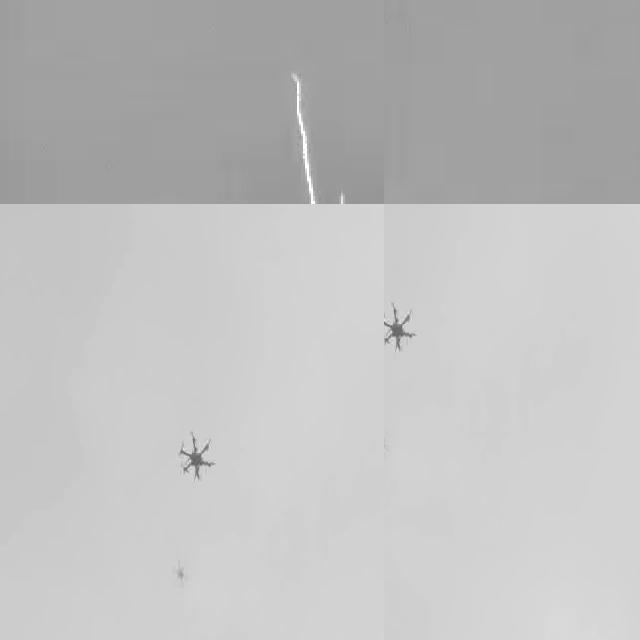drone: (178, 423, 216, 486), (384, 294, 417, 357)
